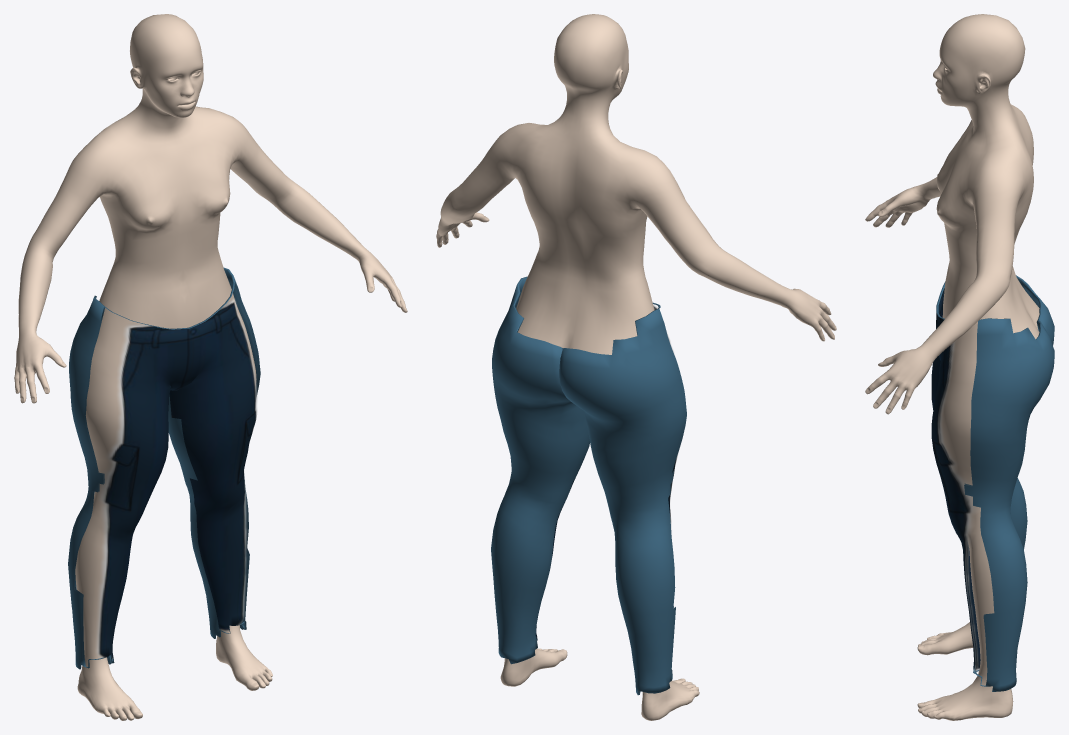
The model's file is avatar_fe98215e011f.glb.
3 renders of one model, left to right at view 1: azimuth 30°, elevation 25°; view 2: azimuth 150°, elevation 25°; view 3: azimuth 270°, elevation 25°, orthographic.
Visible parts, largest first — view 1: Human_gen, garment_trousers; view 2: Human_gen, garment_trousers; view 3: Human_gen, garment_trousers.
Part boxes in pixels (box(x1,y1,x2,y2)): Human_gen: box(14, 14, 407, 720); garment_trousers: box(68, 267, 260, 669); Human_gen: box(436, 14, 836, 720); garment_trousers: box(491, 276, 686, 695); Human_gen: box(865, 14, 1039, 720); garment_trousers: box(931, 275, 1054, 691).
Bounding box in the file's own units: 1.03 × 1.7 × 0.439.
Materials: 3 (1 with a texture image).
